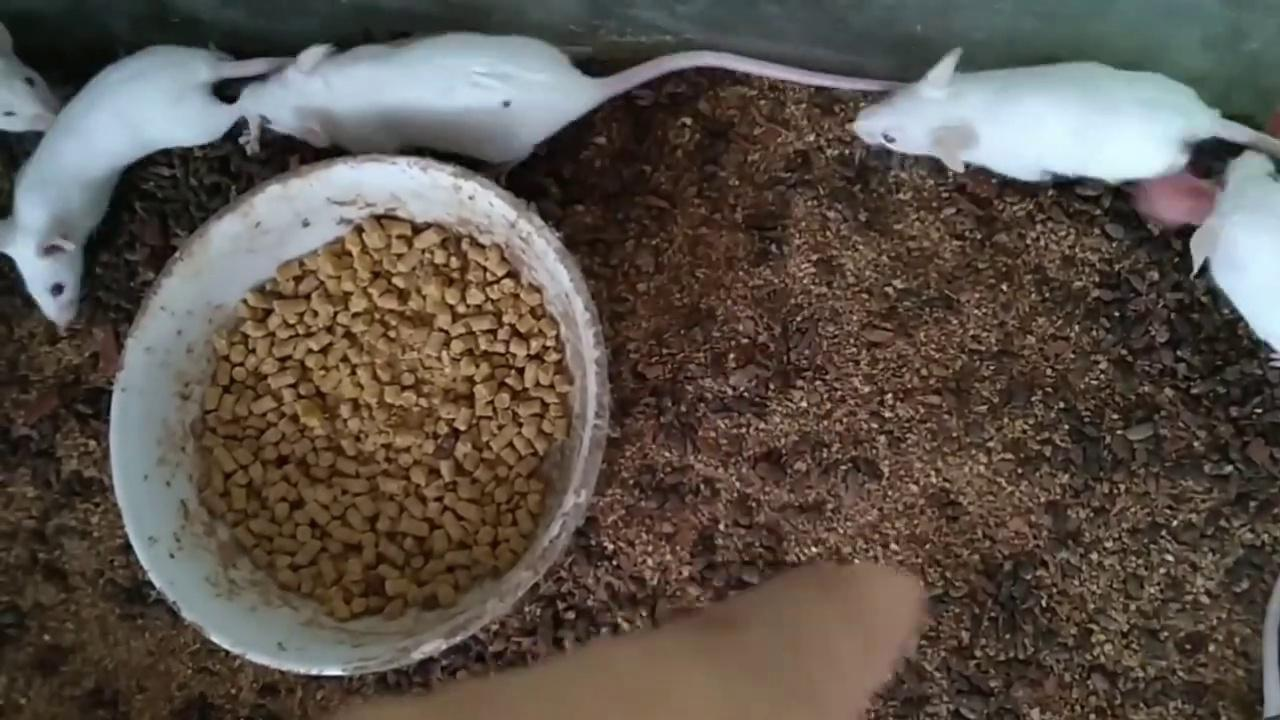rat: (238, 31, 912, 183), (0, 44, 296, 327), (855, 47, 1280, 184), (1189, 152, 1280, 369), (0, 14, 60, 131)
